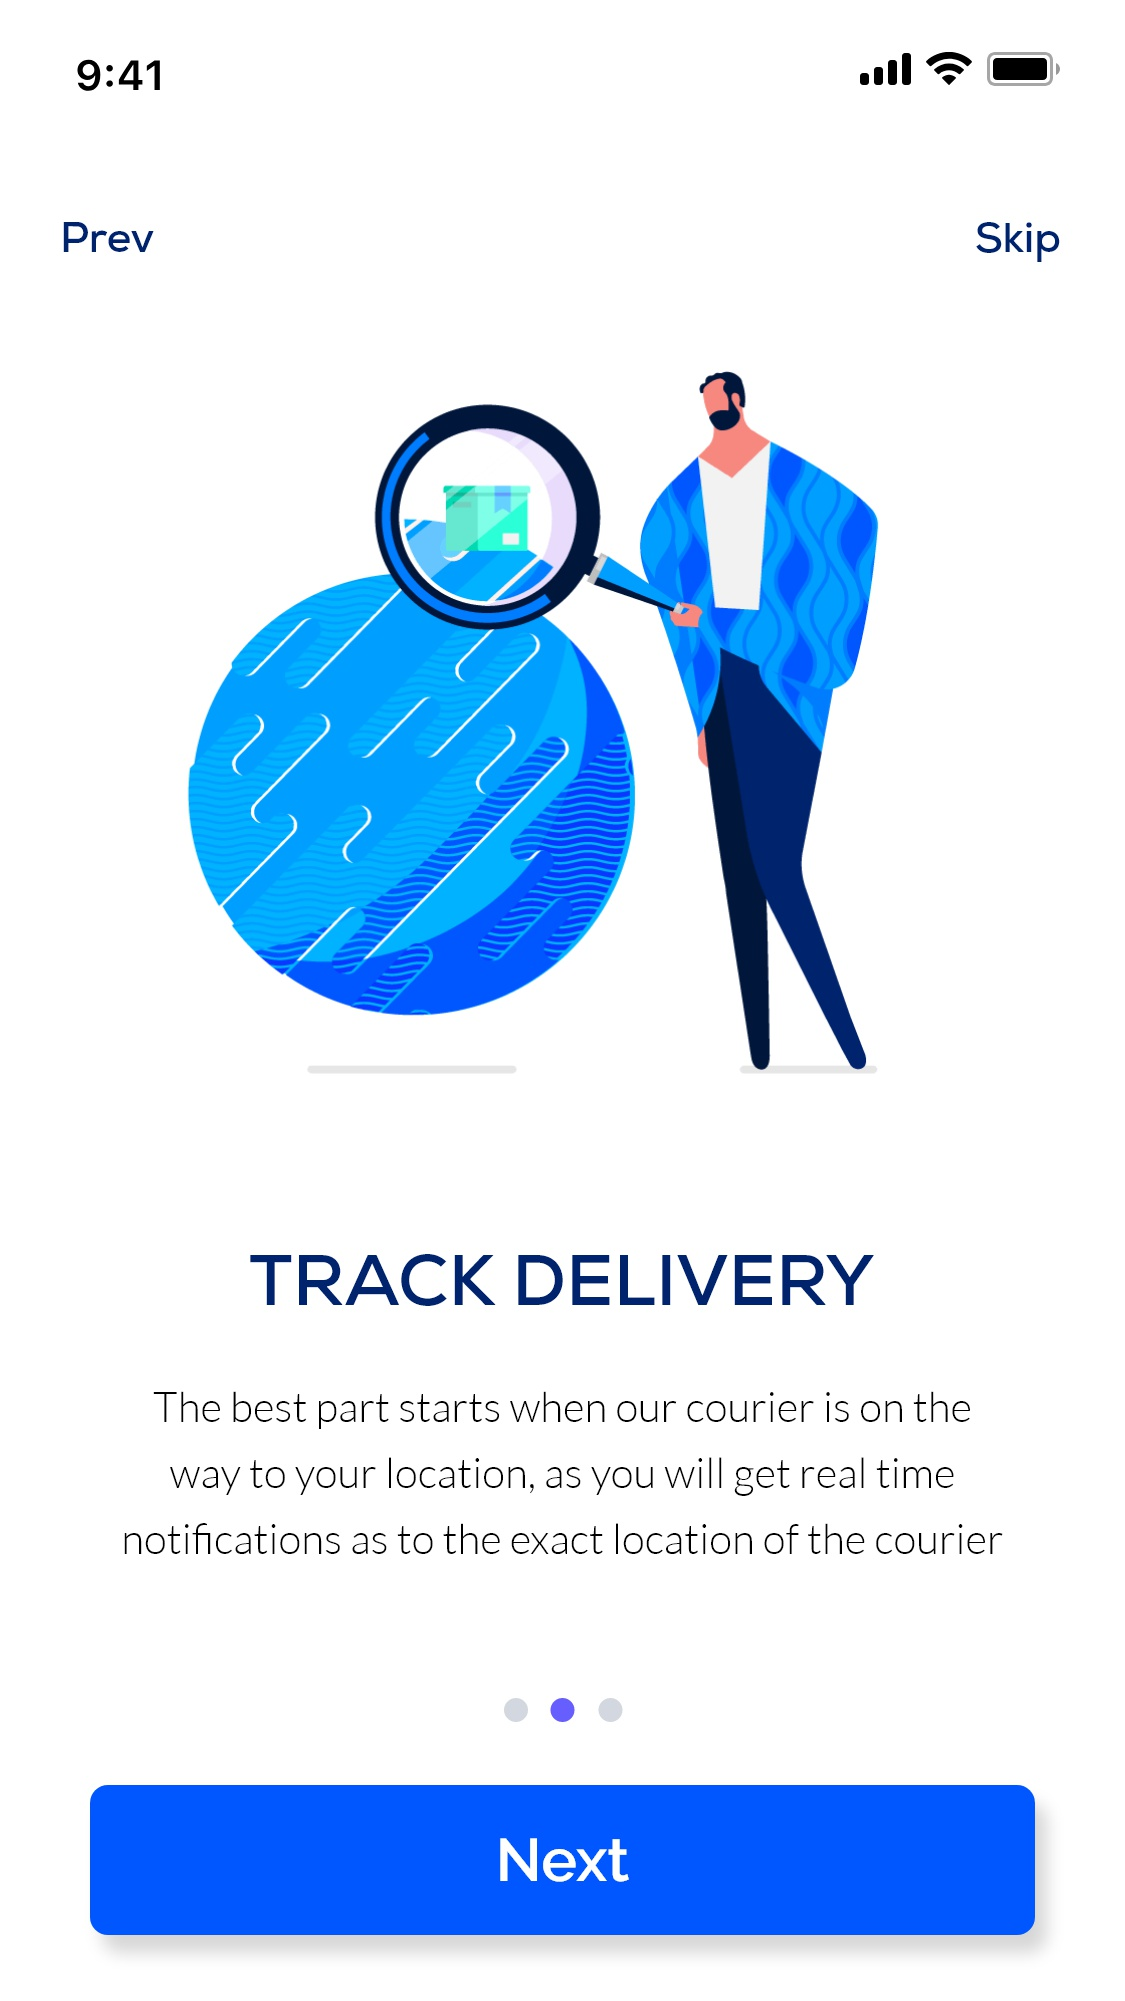Image: (188, 371, 879, 1076)
PageIndicator: (504, 1697, 624, 1723)
Text: (124, 1391, 1004, 1556), (250, 1253, 875, 1307), (977, 223, 1060, 264), (63, 223, 155, 254)
TextButton: (91, 1784, 1036, 1936)
UpperTaskBar: (76, 49, 1063, 93)
